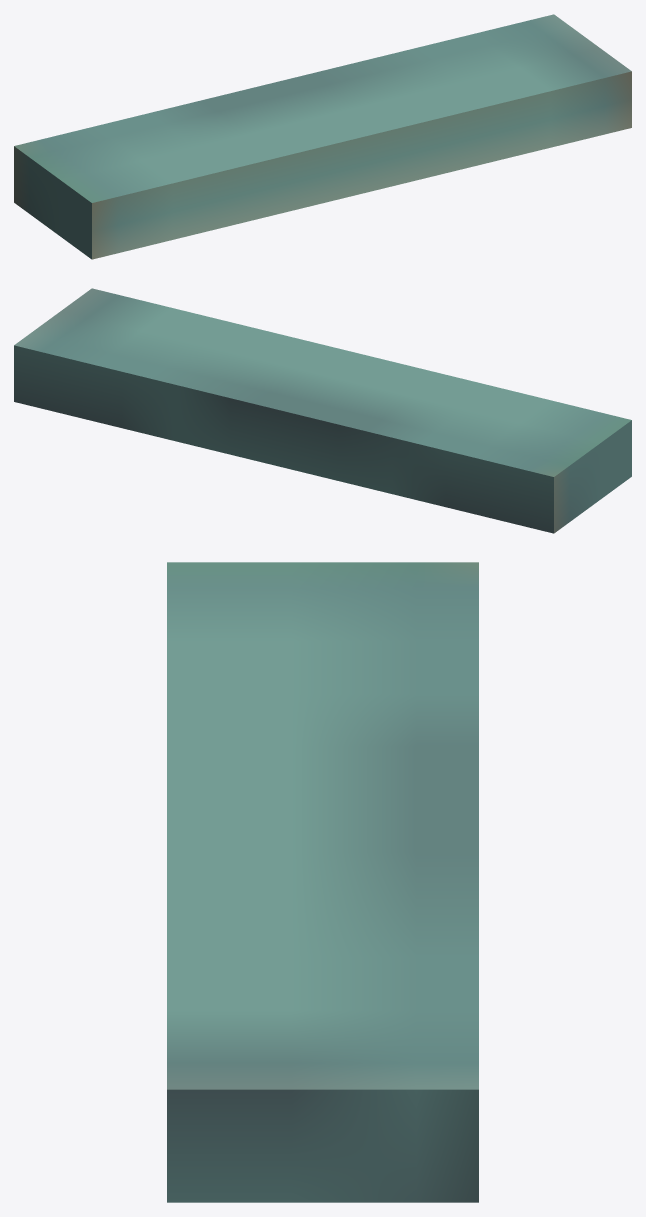
The model's file is ShelfBlue_03.fbx.
3 renders of one model, top to bottom at view 1: azimuth 30°, elevation 25°; view 2: azimuth 150°, elevation 25°; view 3: azimuth 270°, elevation 25°, orthographic. The views are drawn at different scales.
Parts seen in each view (by area): view 1: ShelfBlue_03; view 2: ShelfBlue_03; view 3: ShelfBlue_03.
Boxes of the visible parts, x1=… form: ShelfBlue_03: x1=14, y1=14, x2=631, y2=259; ShelfBlue_03: x1=14, y1=288, x2=631, y2=533; ShelfBlue_03: x1=167, y1=562, x2=478, y2=1202.
Size of the model in its own units: 100 by 25 by 10.
1 material, 1 textured.
